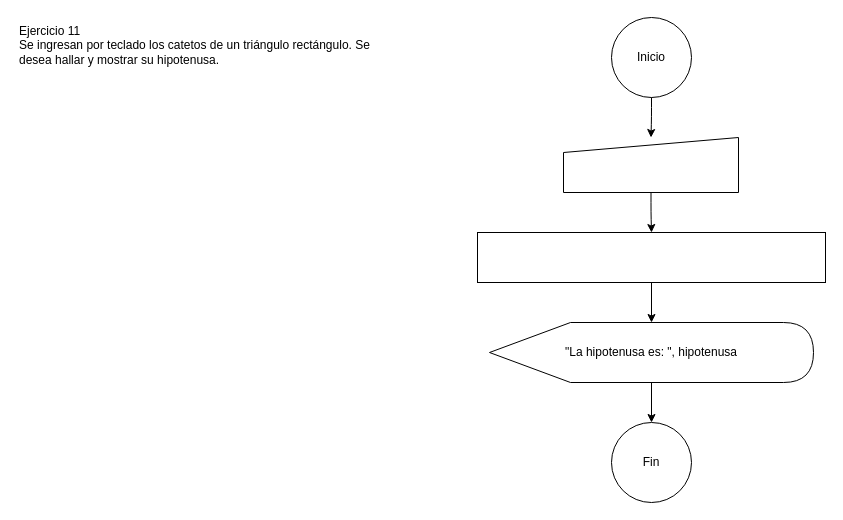
This 843x520 diagram has some shape labels left out. The centre of each missing label's shape, as x and y in pixels:
cateto1,cateto2: (650,164)
hipotenusa ← sqrt(cateto1 ^ 2 + cateto2 ^ 2): (651,257)
